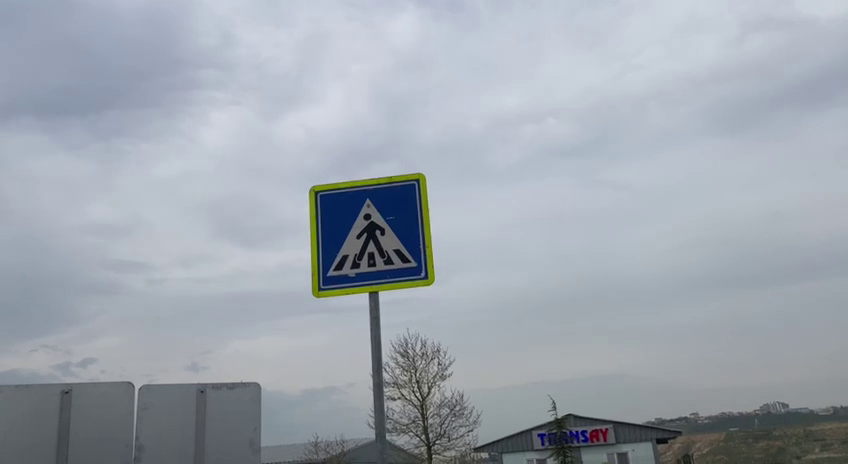pedestrianCrossing: (308, 169, 437, 300)
